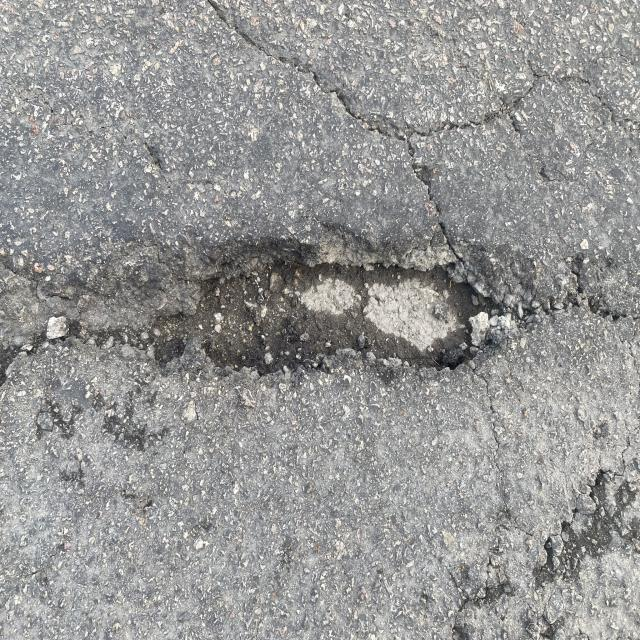pothole: (187, 221, 542, 404)
